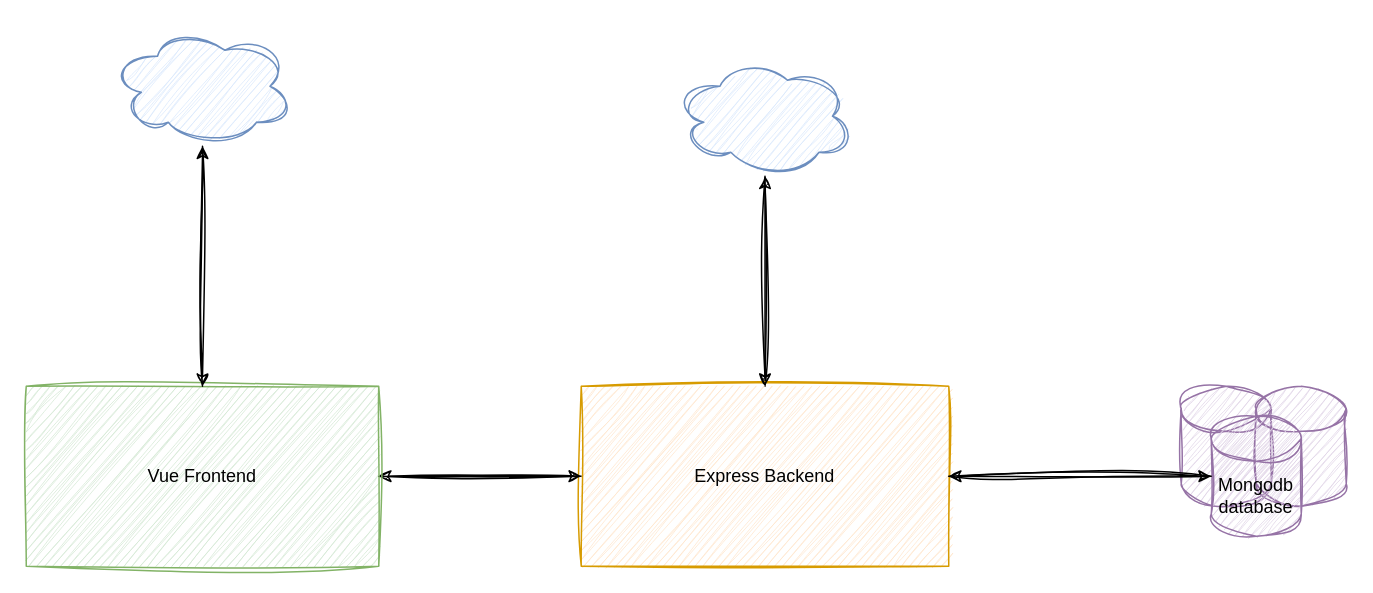
The diagram is 1373 pixels wide and 593 high, and some of its shapes have lost their labels. The box of each missing label's shape, as (x1, y1, x2, y2) in pixels:
Edamam Nutrition API: (111, 25, 292, 146)
Mealdb API: (674, 55, 855, 176)
